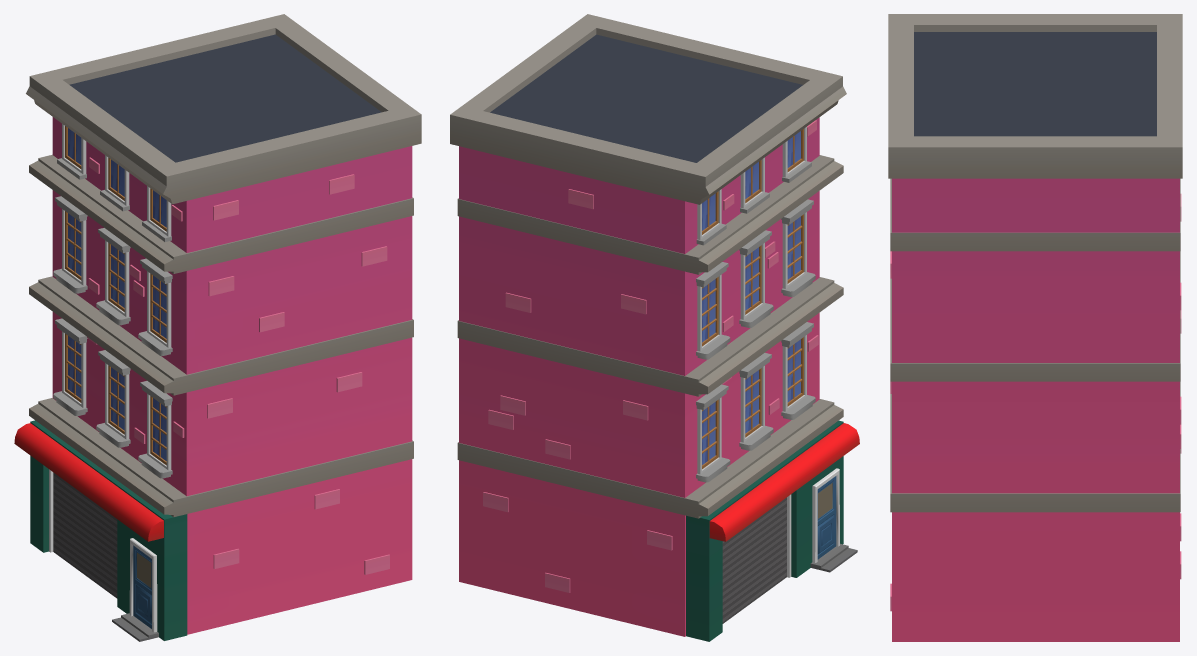
The model's file is Building_19_1_G.fbx.
The picture shows the model from 3 angles, left to right: view 1: azimuth 30°, elevation 25°; view 2: azimuth 150°, elevation 25°; view 3: azimuth 270°, elevation 25°; orthographic projection. The views are drawn at different scales.
Parts seen in each view (by area): view 1: Building_19_1_G; view 2: Building_19_1_G; view 3: Building_19_1_G.
Part boxes in pixels (x1,y1,x2,y2): Building_19_1_G: (14,14,421,641); Building_19_1_G: (450,14,859,641); Building_19_1_G: (888,14,1182,641).
Size of the model in its own units: 774 by 1247 by 667.
